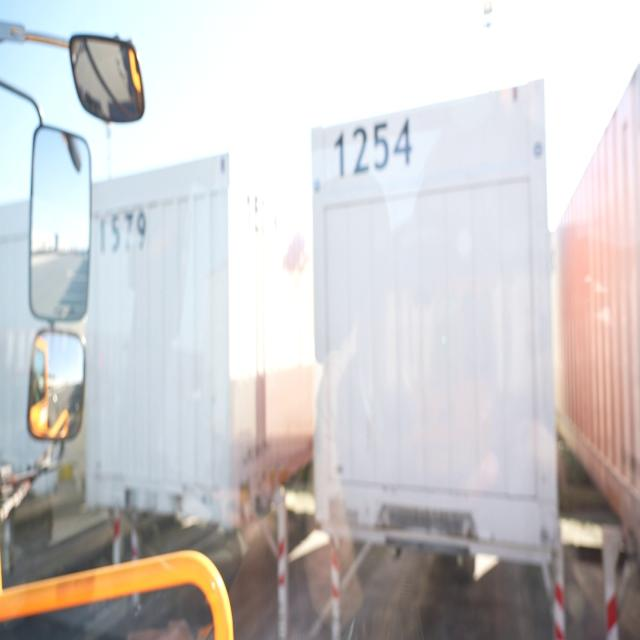Code: (332, 111, 414, 180), (95, 201, 148, 264)
